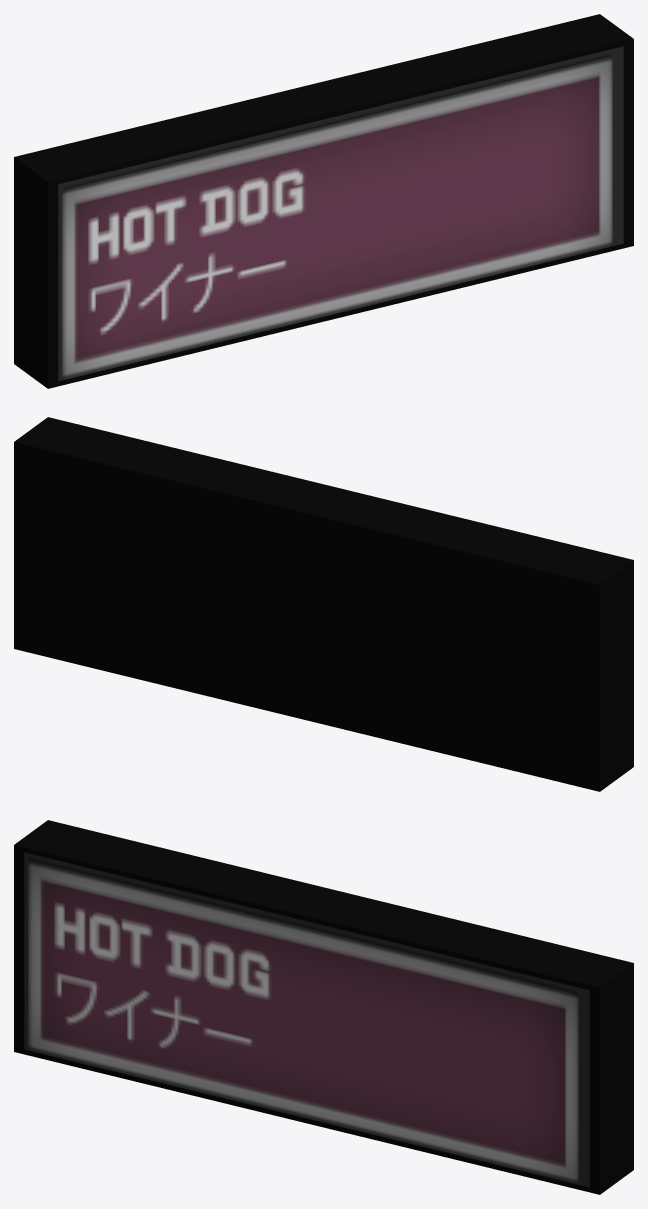
File: WideSign4.fbx
3 views of the same model, one above another, from view 1: azimuth 30°, elevation 25°; view 2: azimuth 150°, elevation 25°; view 3: azimuth 330°, elevation 25° (orthographic).
Parts seen in each view (by area): view 1: Cube; view 2: Cube; view 3: Cube.
Boxes of the visible parts, x1,y1,x2,y2 form: Cube: (14, 14, 633, 388); Cube: (14, 417, 633, 791); Cube: (14, 820, 633, 1194).
Size of the model in its own units: 360 by 121 by 36.18.
